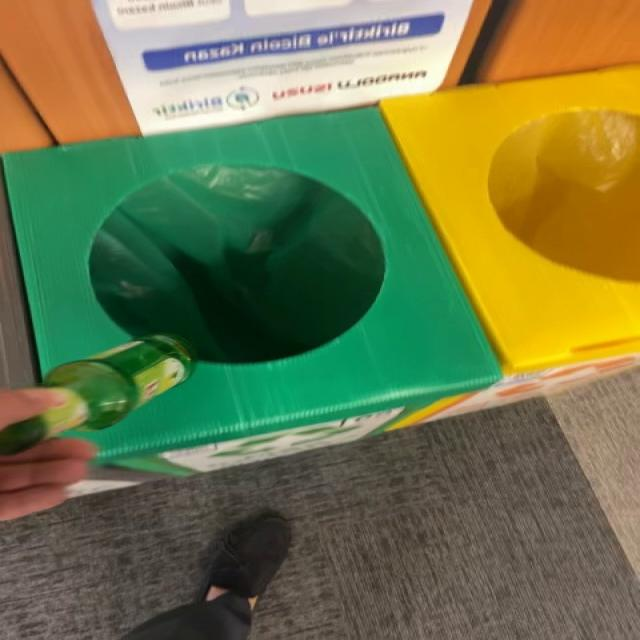glass: (0, 335, 193, 456)
